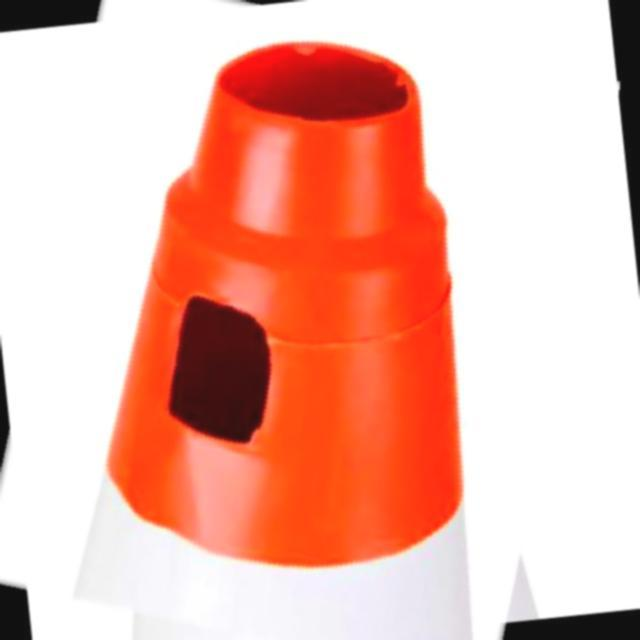traffic cone: (91, 41, 467, 573)
